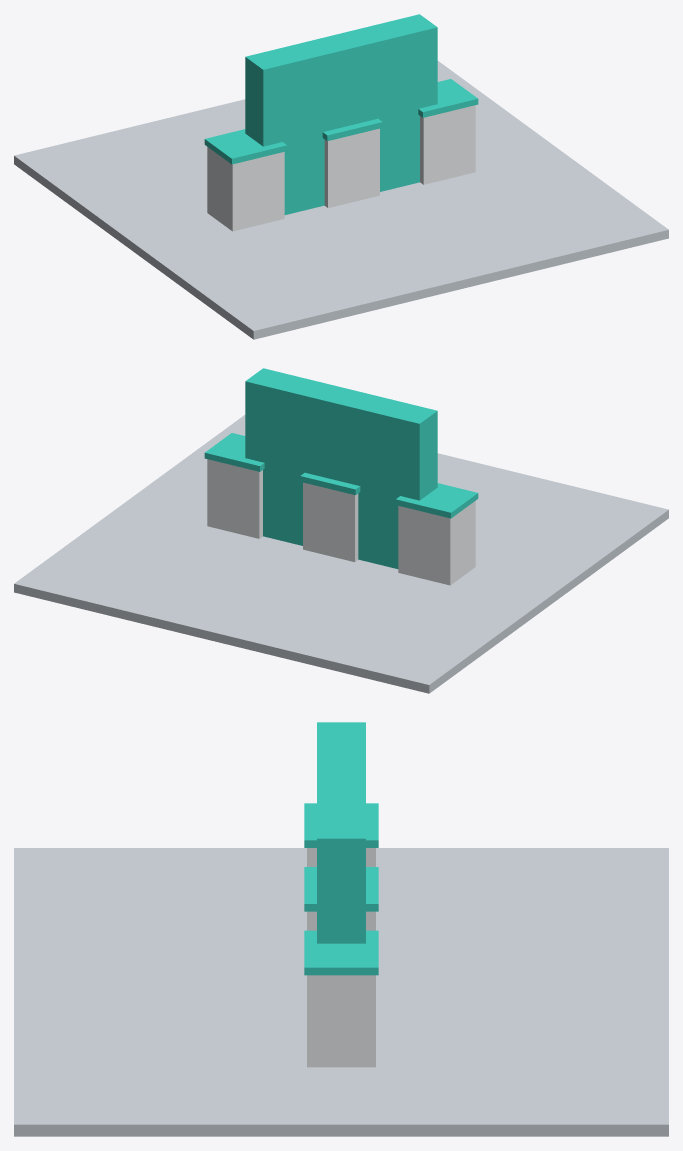
3 renders of one model, top to bottom at view 1: azimuth 30°, elevation 25°; view 2: azimuth 150°, elevation 25°; view 3: azimuth 270°, elevation 25°, orthographic. The views are drawn at different scales.
Parts seen in each view (by area): view 1: Exhibition Booth Concept; view 2: Exhibition Booth Concept; view 3: Exhibition Booth Concept.
Boxes of the visible parts, x1,y1,x2,y2 form: Exhibition Booth Concept: (14, 14, 668, 339); Exhibition Booth Concept: (14, 368, 668, 693); Exhibition Booth Concept: (14, 722, 668, 1136).
Size of the model in its own units: 6 by 2.2 by 6.
